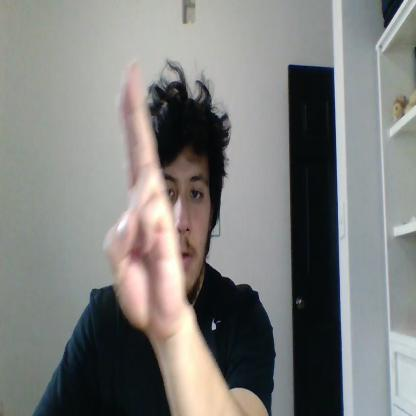U: (103, 62, 186, 332)
